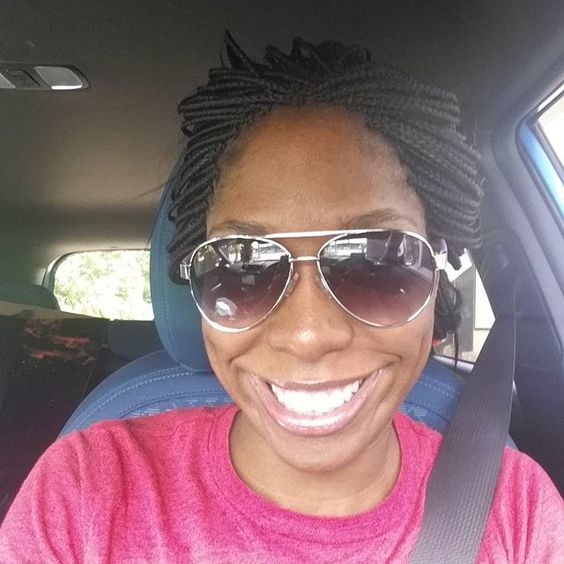sunglasses: (194, 238, 426, 323)
